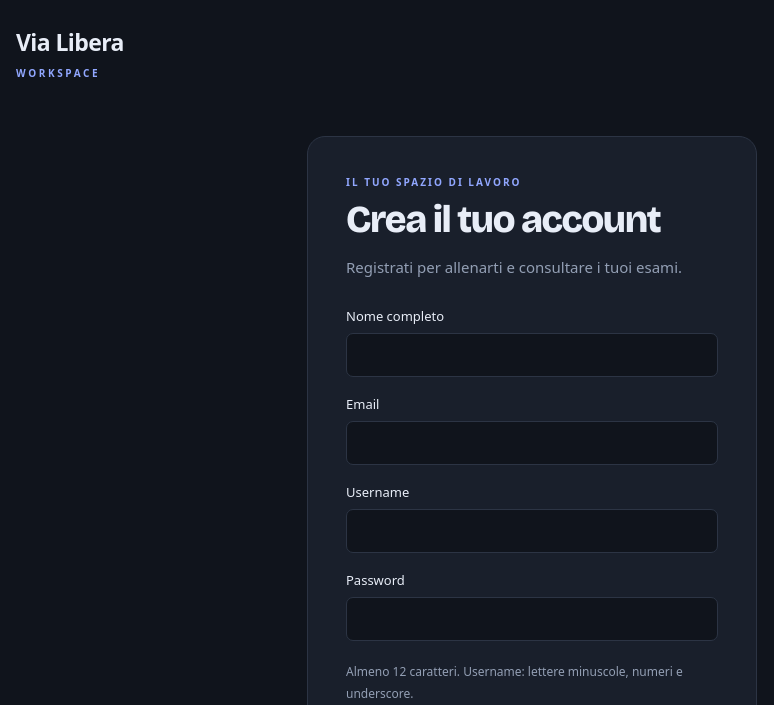
React login and backoffice › registers a student and returns to login
Step 1. Type "Alice" into the field labelled "Nome completo" → (532, 355), box 346,333 -> 718,377
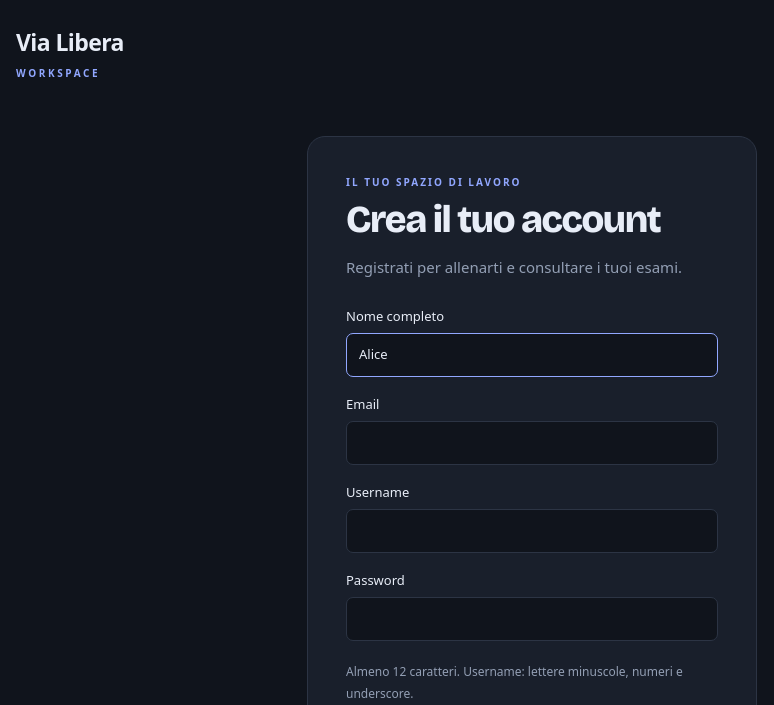
Step 2. Type "alice@test.it" into the field labelled "Email" → (532, 443), box 346,421 -> 718,465
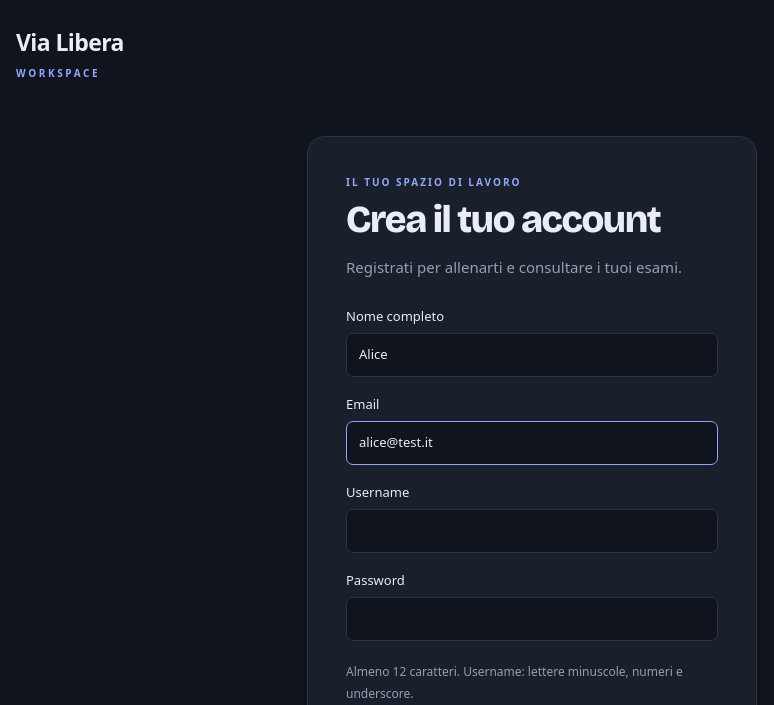
Step 3. Type "alice" into the field labelled "Username" → (532, 531), box 346,509 -> 718,553
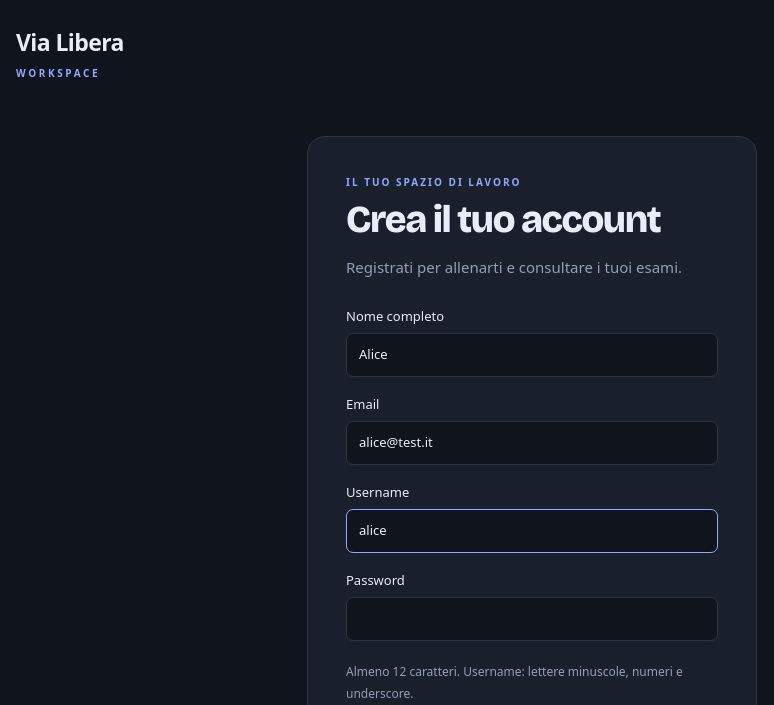
Step 4. Type "StrongPassword123" into the password field labelled "Password" → (532, 619), box 346,597 -> 718,641
(page scrolled)
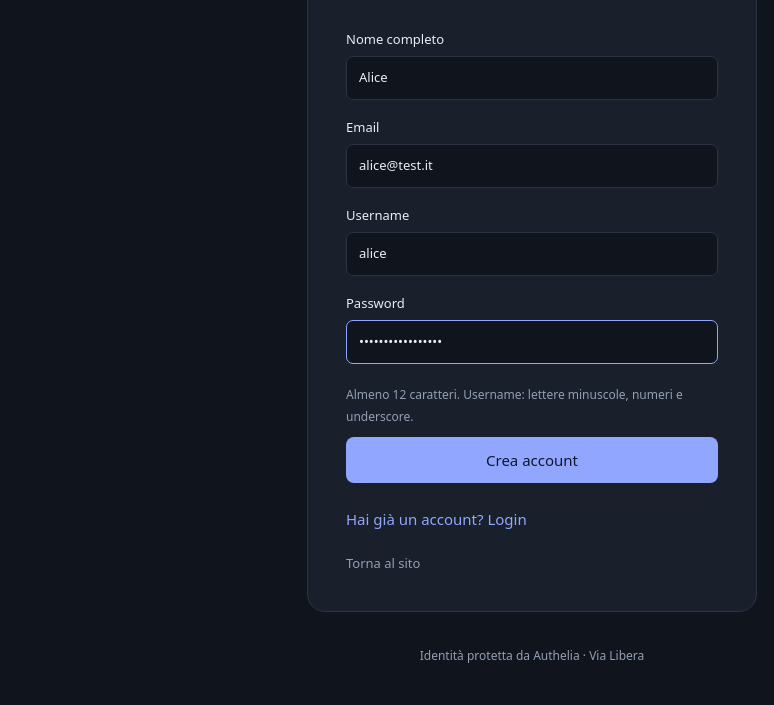
Step 5. Click the button "Crea account" → (532, 460), box 346,437 -> 718,483
(page scrolled)
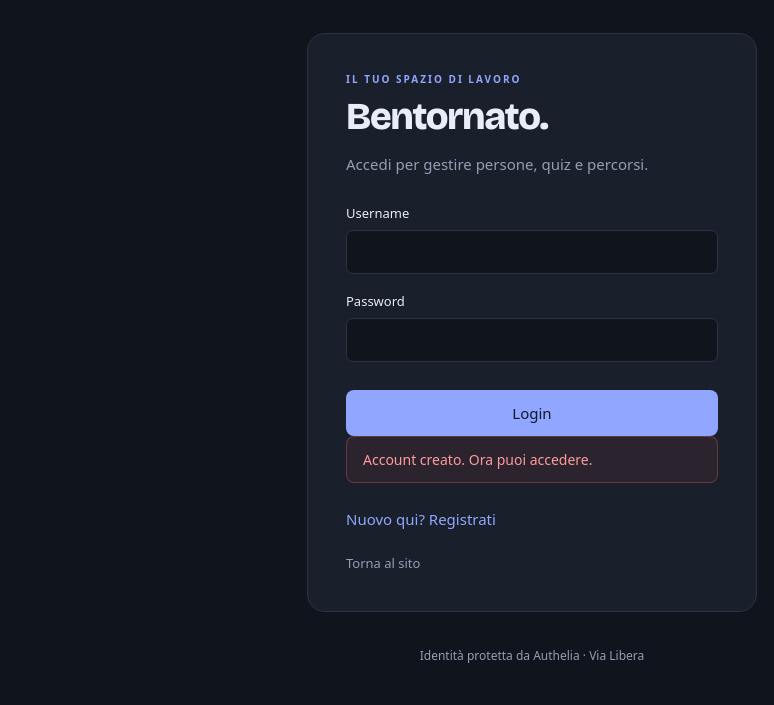
Check: the text "Account creato. Ora puoi accedere." is shown, box 346,436 -> 718,483
